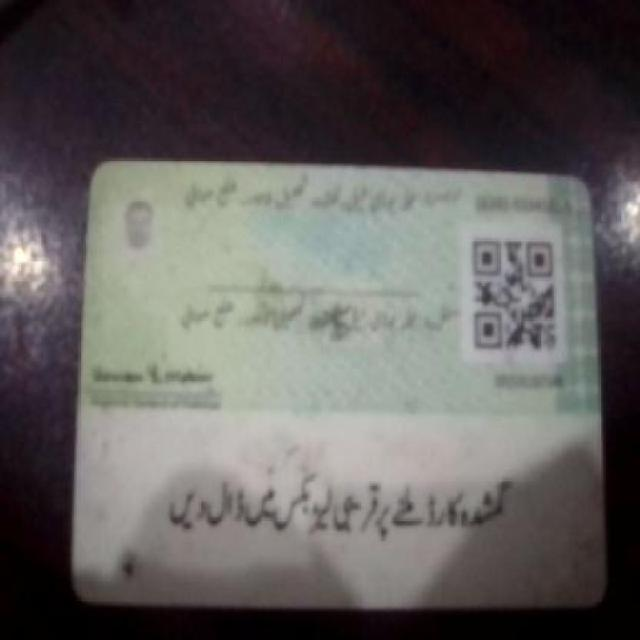Back: (68, 151, 622, 611)
